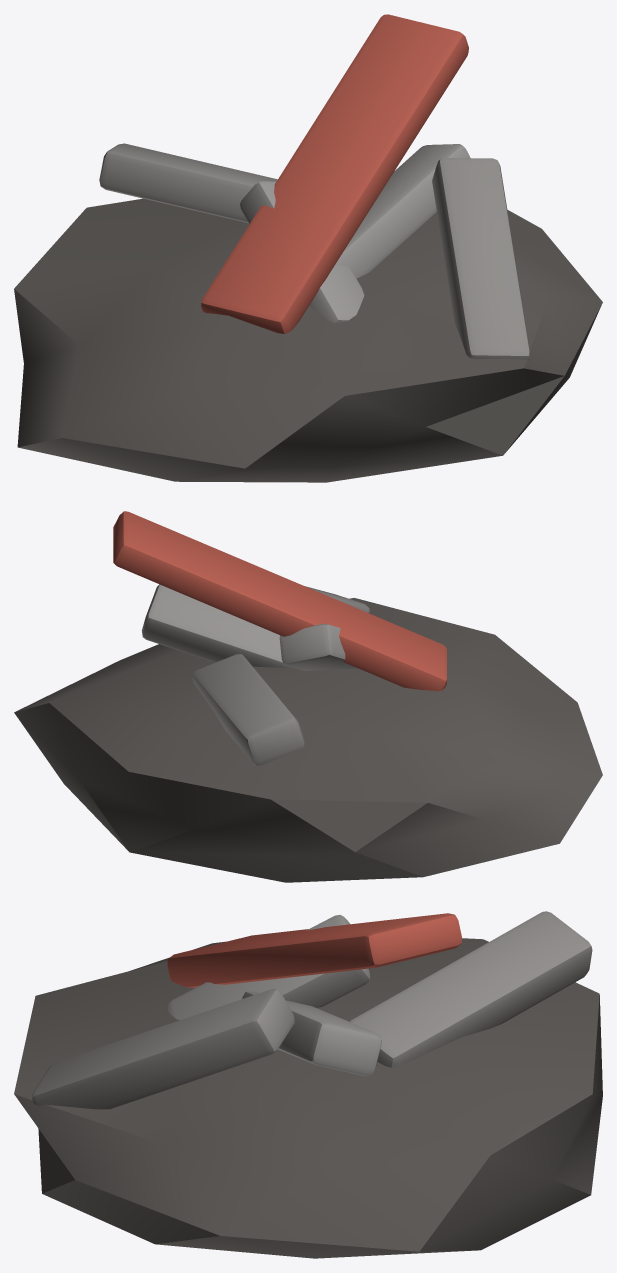
File: prop_debris.glb
The picture shows the model from 3 angles, top to bottom: view 1: azimuth 30°, elevation 25°; view 2: azimuth 150°, elevation 25°; view 3: azimuth 270°, elevation 25°; orthographic projection. The views are drawn at different scales.
Visible parts, largest first — view 1: prop_debris; view 2: prop_debris; view 3: prop_debris.
Part boxes in pixels (bbox=[...]): prop_debris: bbox=[14, 14, 602, 482]; prop_debris: bbox=[14, 511, 602, 882]; prop_debris: bbox=[14, 911, 602, 1258].
Size of the model in its own units: 0.8088 by 0.4386 by 0.6528.
